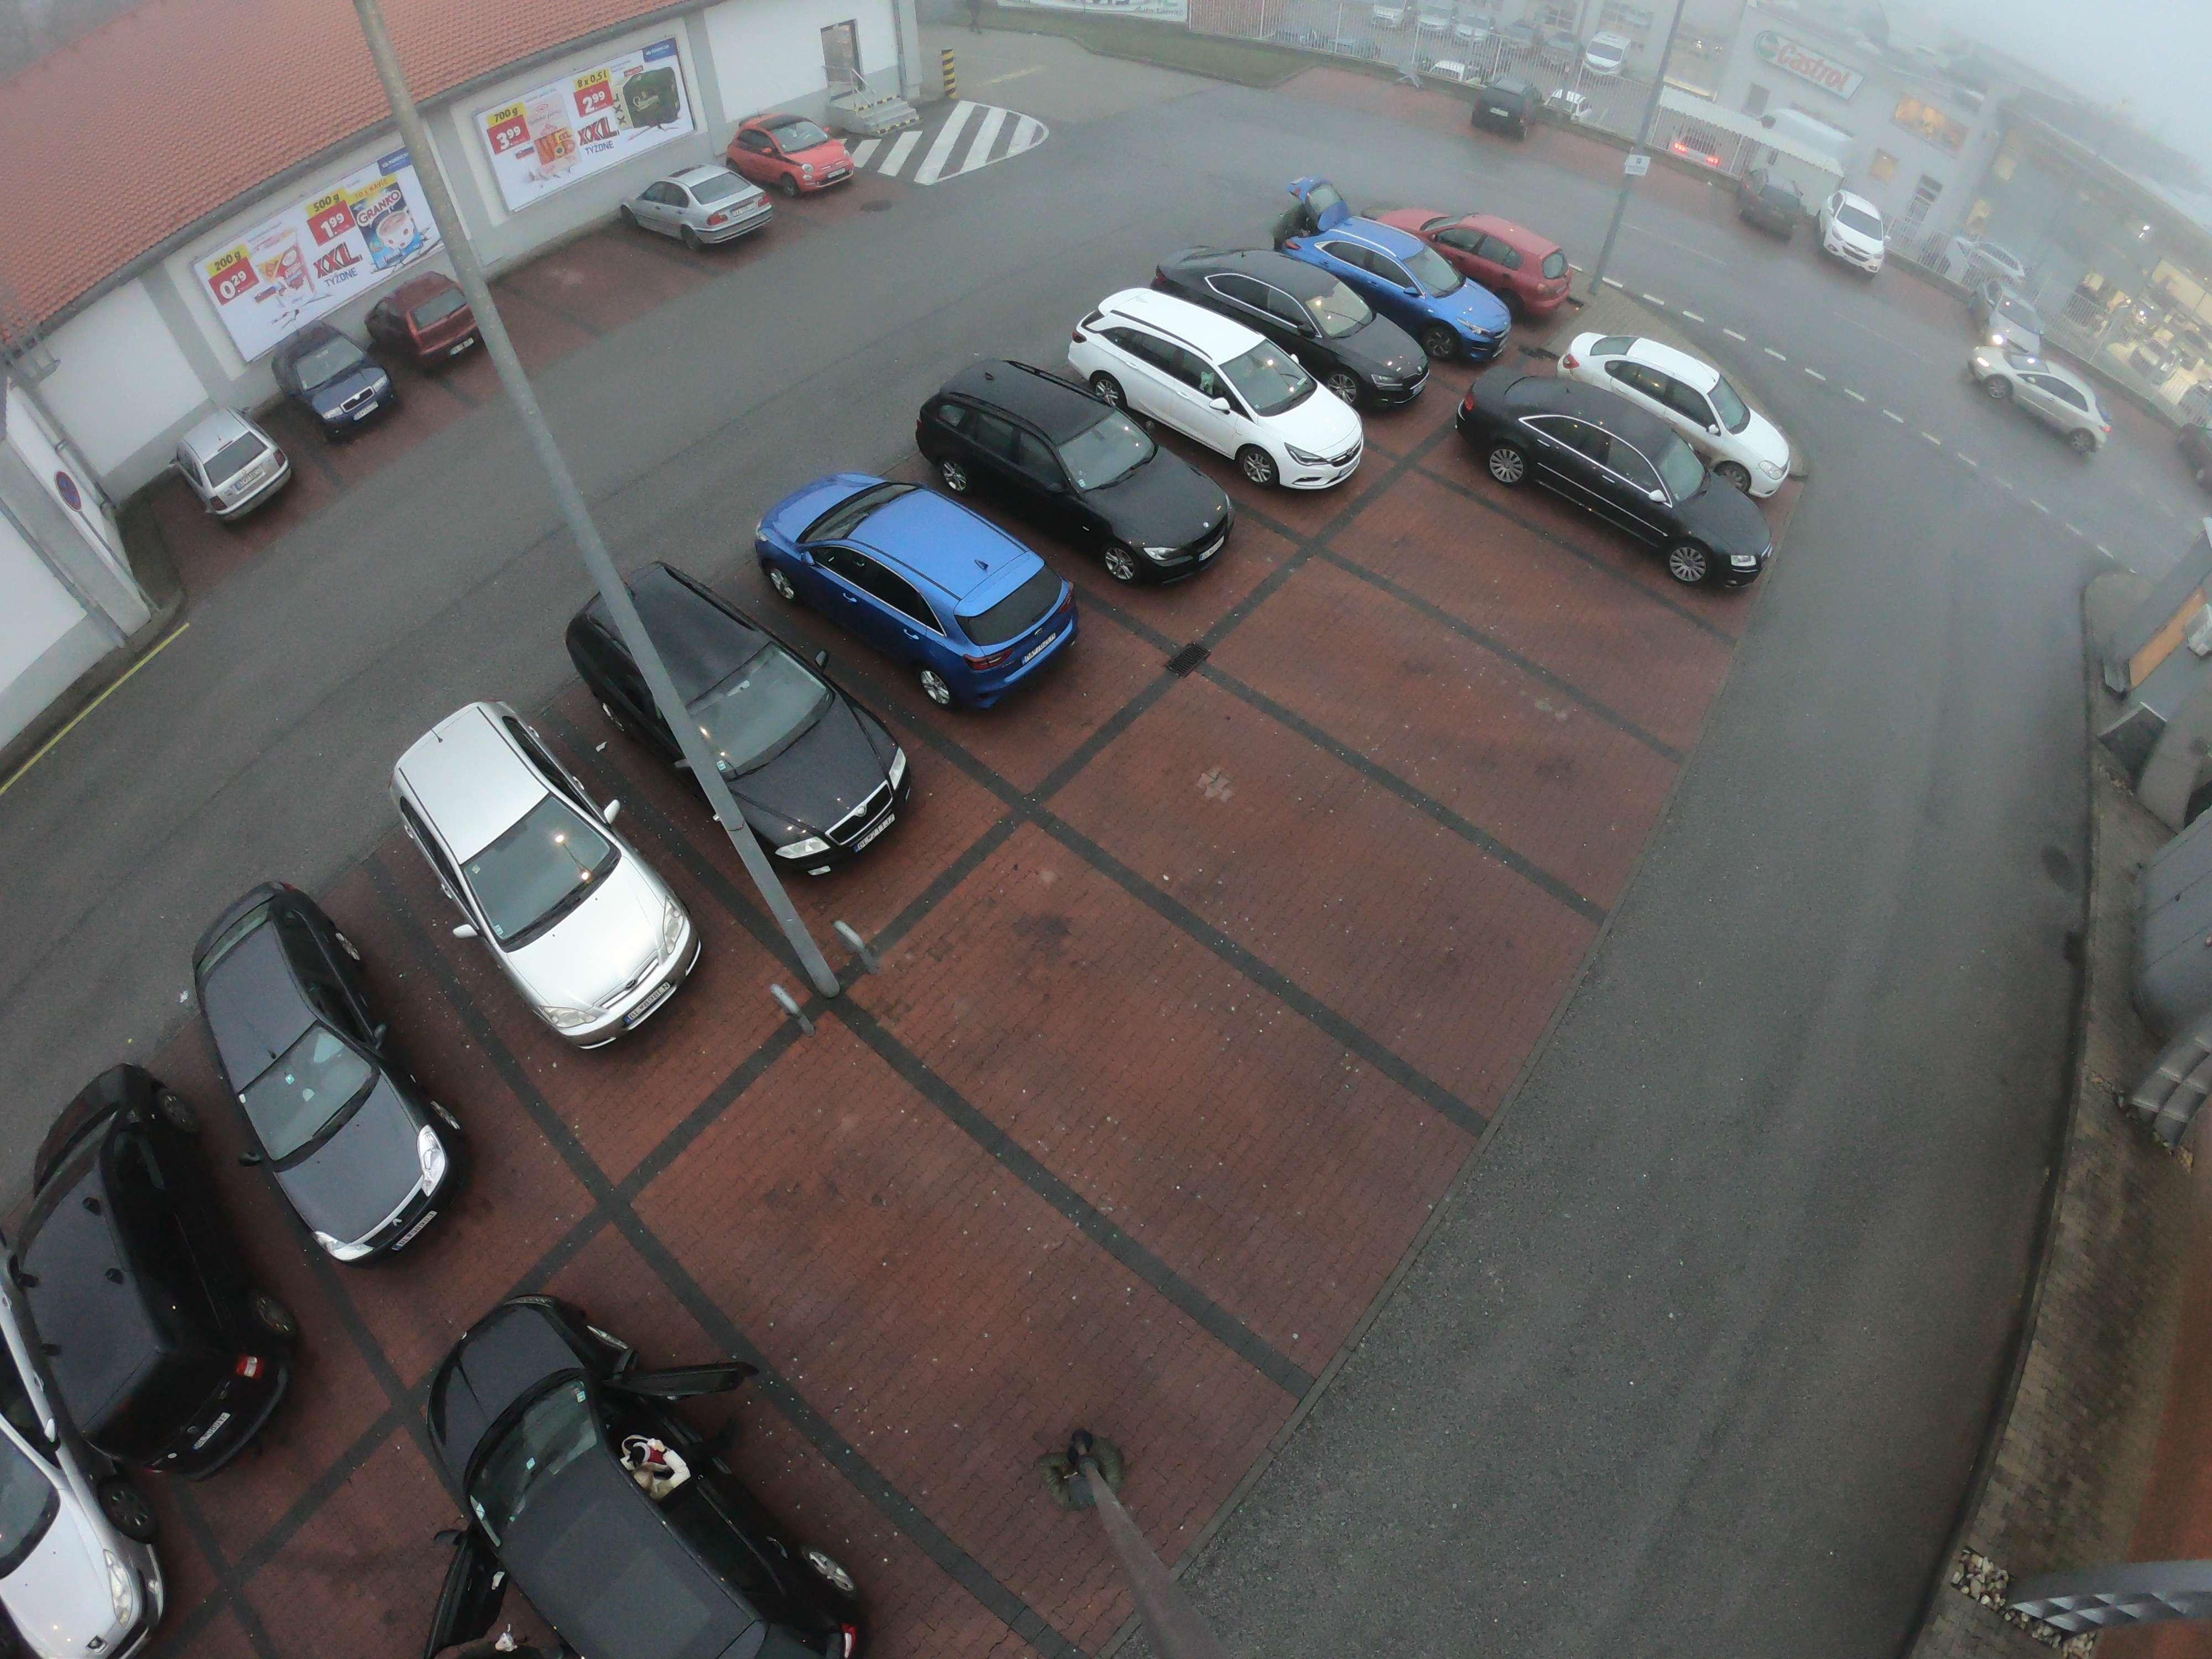empty: (442, 1317, 852, 1659), (157, 871, 458, 1279), (10, 1063, 284, 1492), (368, 704, 705, 1051), (577, 584, 911, 880), (765, 481, 1078, 704), (935, 385, 1224, 584), (1463, 389, 1766, 570), (1080, 298, 1346, 481), (1580, 335, 1792, 483), (1183, 261, 1420, 392), (1306, 221, 1503, 345), (169, 404, 305, 519), (280, 315, 409, 436), (1411, 209, 1564, 308), (629, 162, 779, 258), (388, 272, 512, 371), (737, 110, 866, 197)
occupied: (789, 1185, 1040, 1373), (991, 957, 1237, 1129), (1188, 782, 1414, 932), (1348, 659, 1507, 767), (1453, 544, 1604, 634), (545, 237, 651, 310)
